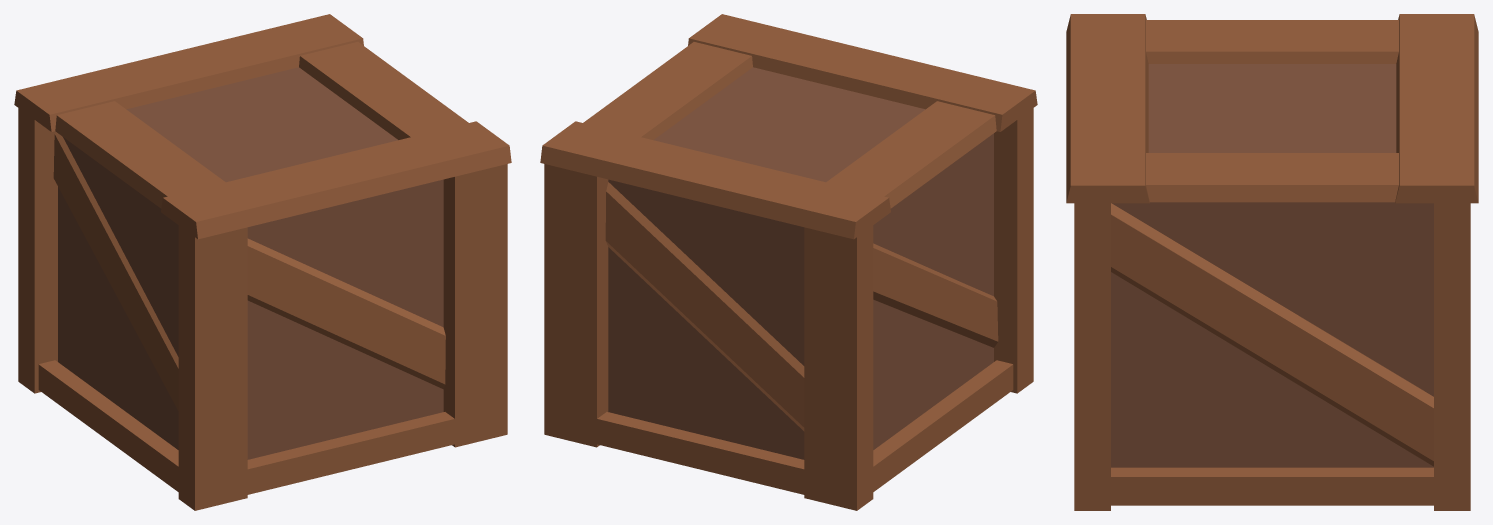
Rendered from Caixa_1.fbx.
3 renders of one model, left to right at view 1: azimuth 30°, elevation 25°; view 2: azimuth 150°, elevation 25°; view 3: azimuth 270°, elevation 25°, orthographic. The views are drawn at different scales.
Visible parts, largest first — view 1: Caixa_1; view 2: Caixa_1; view 3: Caixa_1.
Part boxes in pixels (bbox=[...]): Caixa_1: bbox=[14, 14, 511, 510]; Caixa_1: bbox=[540, 14, 1037, 510]; Caixa_1: bbox=[1066, 14, 1478, 510].
Size of the model in its own units: 0.9783 by 0.964 by 0.8524.
